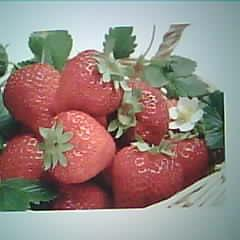straw-ripe: (46, 114, 114, 183), (57, 49, 121, 115), (116, 146, 183, 208), (5, 64, 58, 132)
